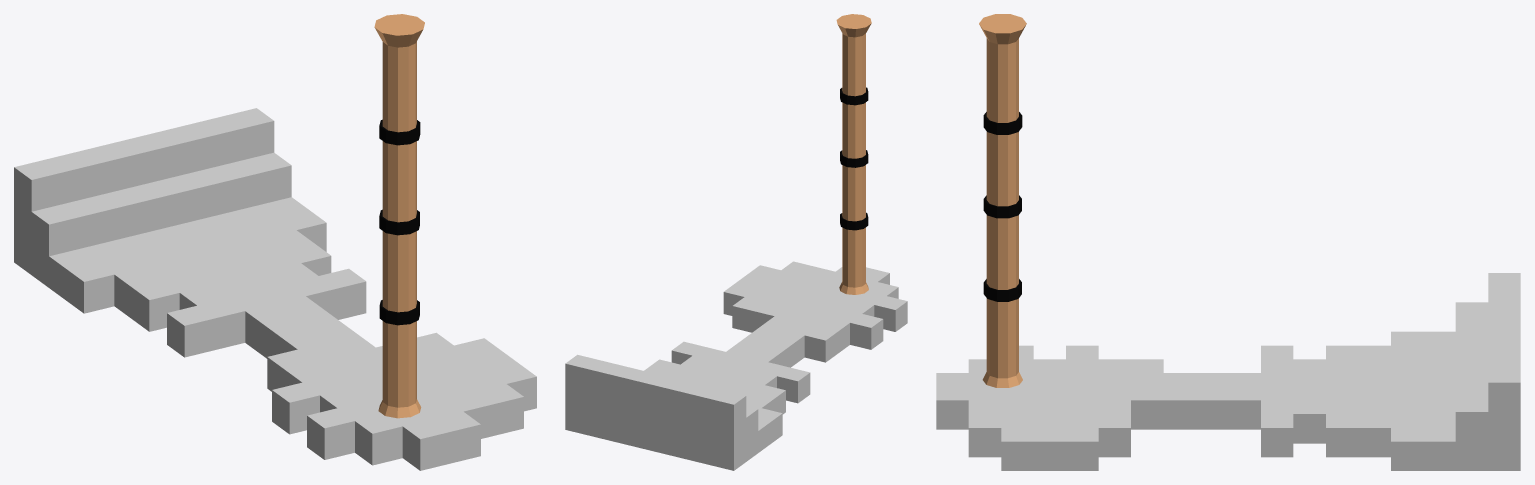
The model's file is Pillar.fbx.
The picture shows the model from 3 angles, left to right: view 1: azimuth 30°, elevation 25°; view 2: azimuth 150°, elevation 25°; view 3: azimuth 270°, elevation 25°; orthographic projection. The views are drawn at different scales.
Visible parts, largest first — view 1: Cube, Cylinder; view 2: Cube, Cylinder; view 3: Cube, Cylinder.
Part boxes in pixels (bbox=[...]): Cube: bbox=[14, 108, 536, 470]; Cylinder: bbox=[374, 14, 424, 418]; Cube: bbox=[565, 261, 907, 470]; Cylinder: bbox=[836, 14, 871, 294]; Cube: bbox=[936, 273, 1520, 470]; Cylinder: bbox=[979, 14, 1026, 387].
Bounding box in the file's own units: 1600 × 2621 × 3600.
